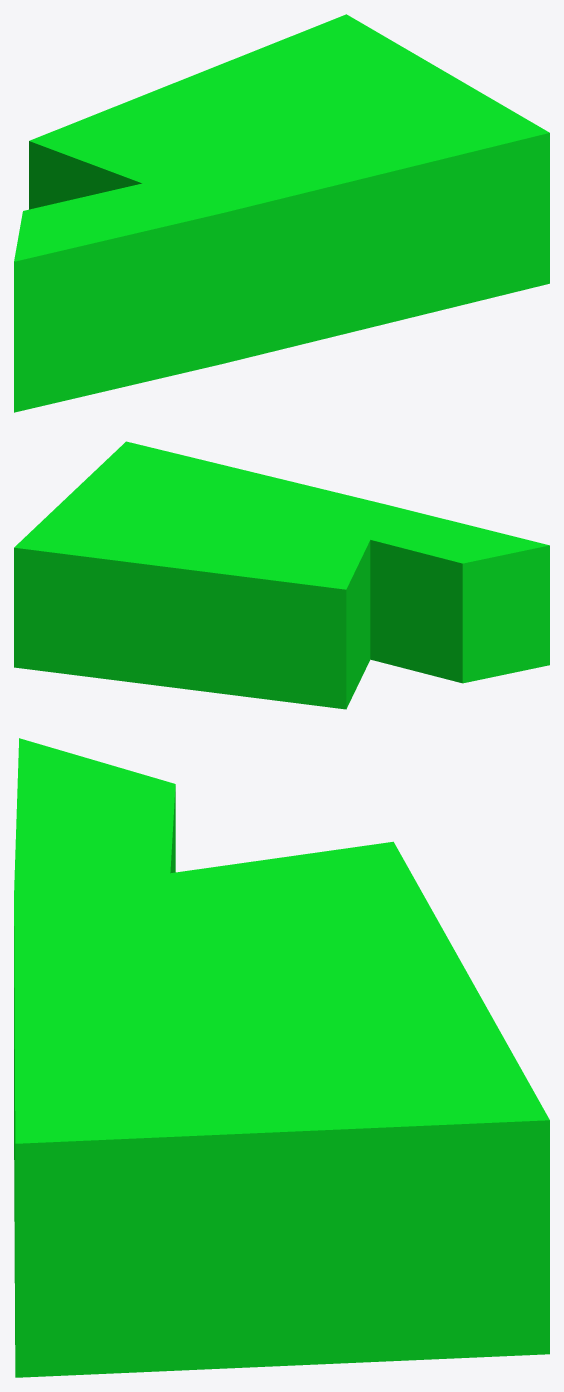
File: ciervo4.glb
3 renders of one model, top to bottom at view 1: azimuth 30°, elevation 25°; view 2: azimuth 150°, elevation 25°; view 3: azimuth 270°, elevation 25°, orthographic. The views are drawn at different scales.
Parts seen in each view (by area): view 1: ciervo4; view 2: ciervo4; view 3: ciervo4.
Part boxes in pixels (bbox=[...]): ciervo4: bbox=[14, 14, 549, 412]; ciervo4: bbox=[14, 441, 549, 709]; ciervo4: bbox=[14, 738, 549, 1377].
Bounding box in the file's own units: 1.06 × 0.2872 × 0.5941.
